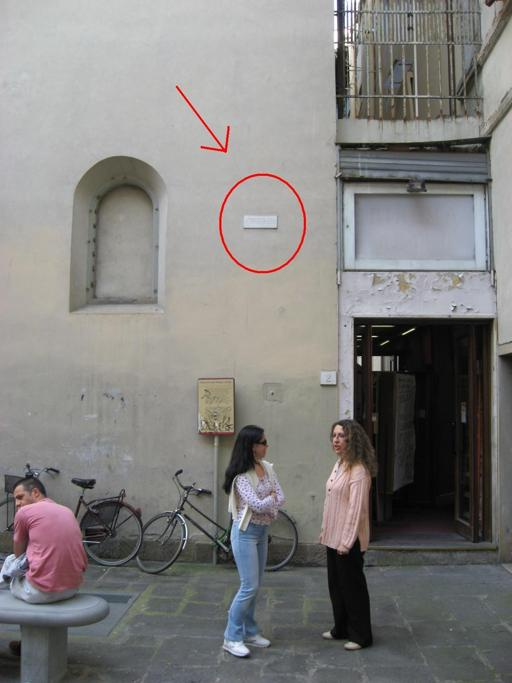non-vehicle: (133, 465, 303, 575), (0, 459, 145, 568)
